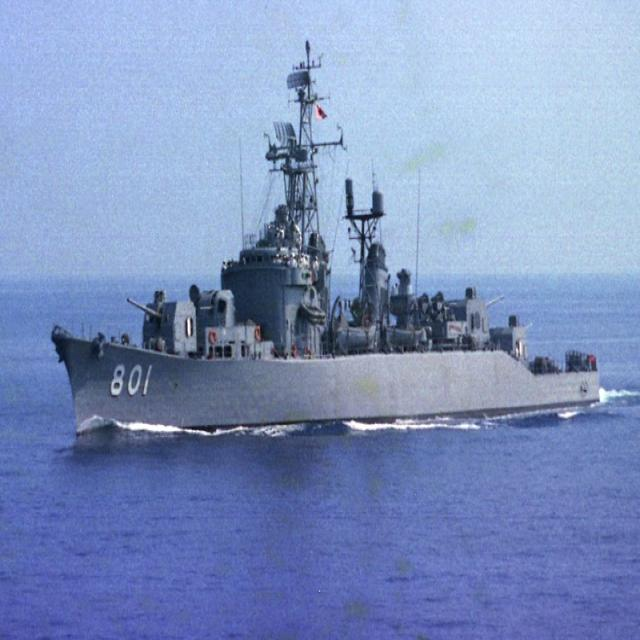navalvessels: (52, 59, 608, 474)
